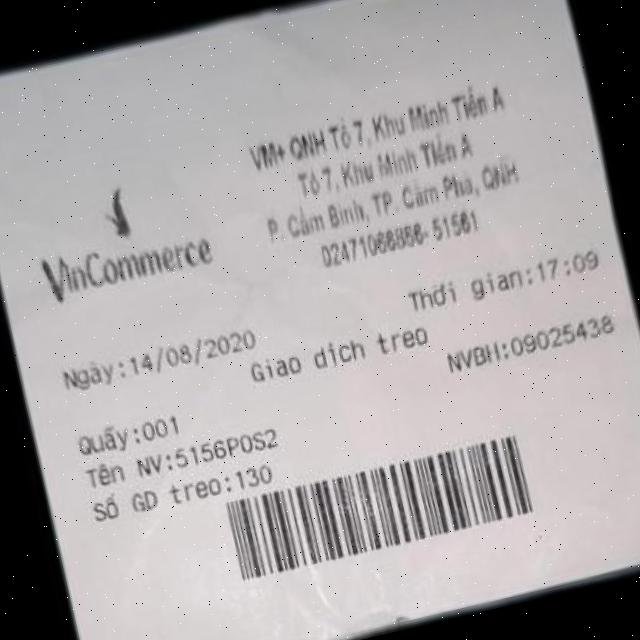Date: (128, 322, 262, 380)
Store_Name: (38, 216, 222, 314)
